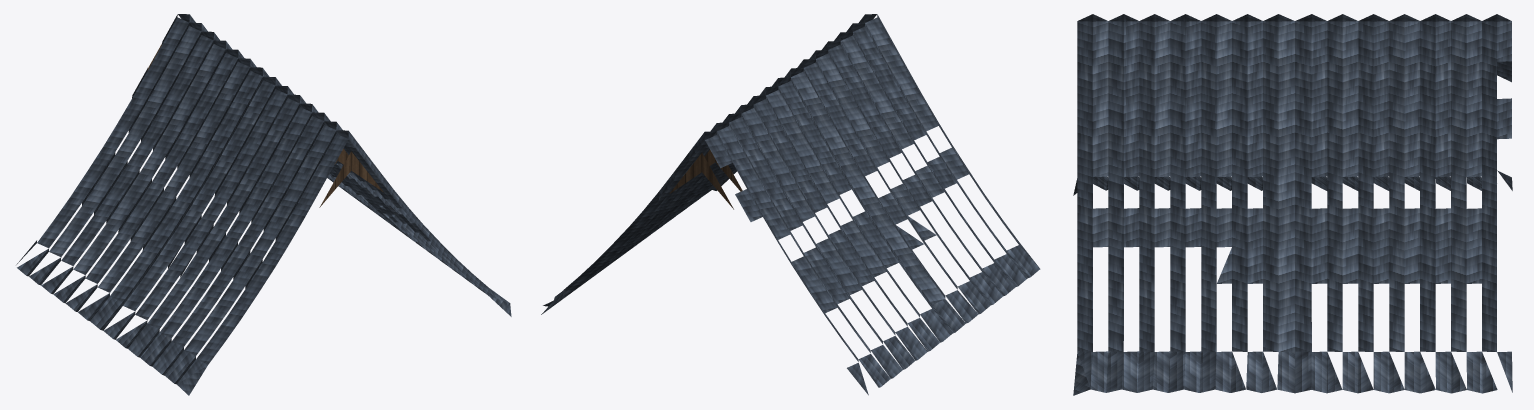
Rendered from Roof_Slate_6x6_LOD1.gltf.
3 views of the same model, side by side, from view 1: azimuth 30°, elevation 25°; view 2: azimuth 150°, elevation 25°; view 3: azimuth 270°, elevation 25° (orthographic). The views are drawn at different scales.
Parts seen in each view (by area): view 1: Roof_Slate_6x6_LOD1; view 2: Roof_Slate_6x6_LOD1; view 3: Roof_Slate_6x6_LOD1.
Part boxes in pixels (x1=…): Roof_Slate_6x6_LOD1: x1=16, y1=14, x2=511, y2=395; Roof_Slate_6x6_LOD1: x1=541, y1=14, x2=1040, y2=395; Roof_Slate_6x6_LOD1: x1=1073, y1=14, x2=1512, y2=395.
Bounding box in the file's own units: 8.25 × 5.17 × 7.59.
Materials: 2 (2 with a texture image).
